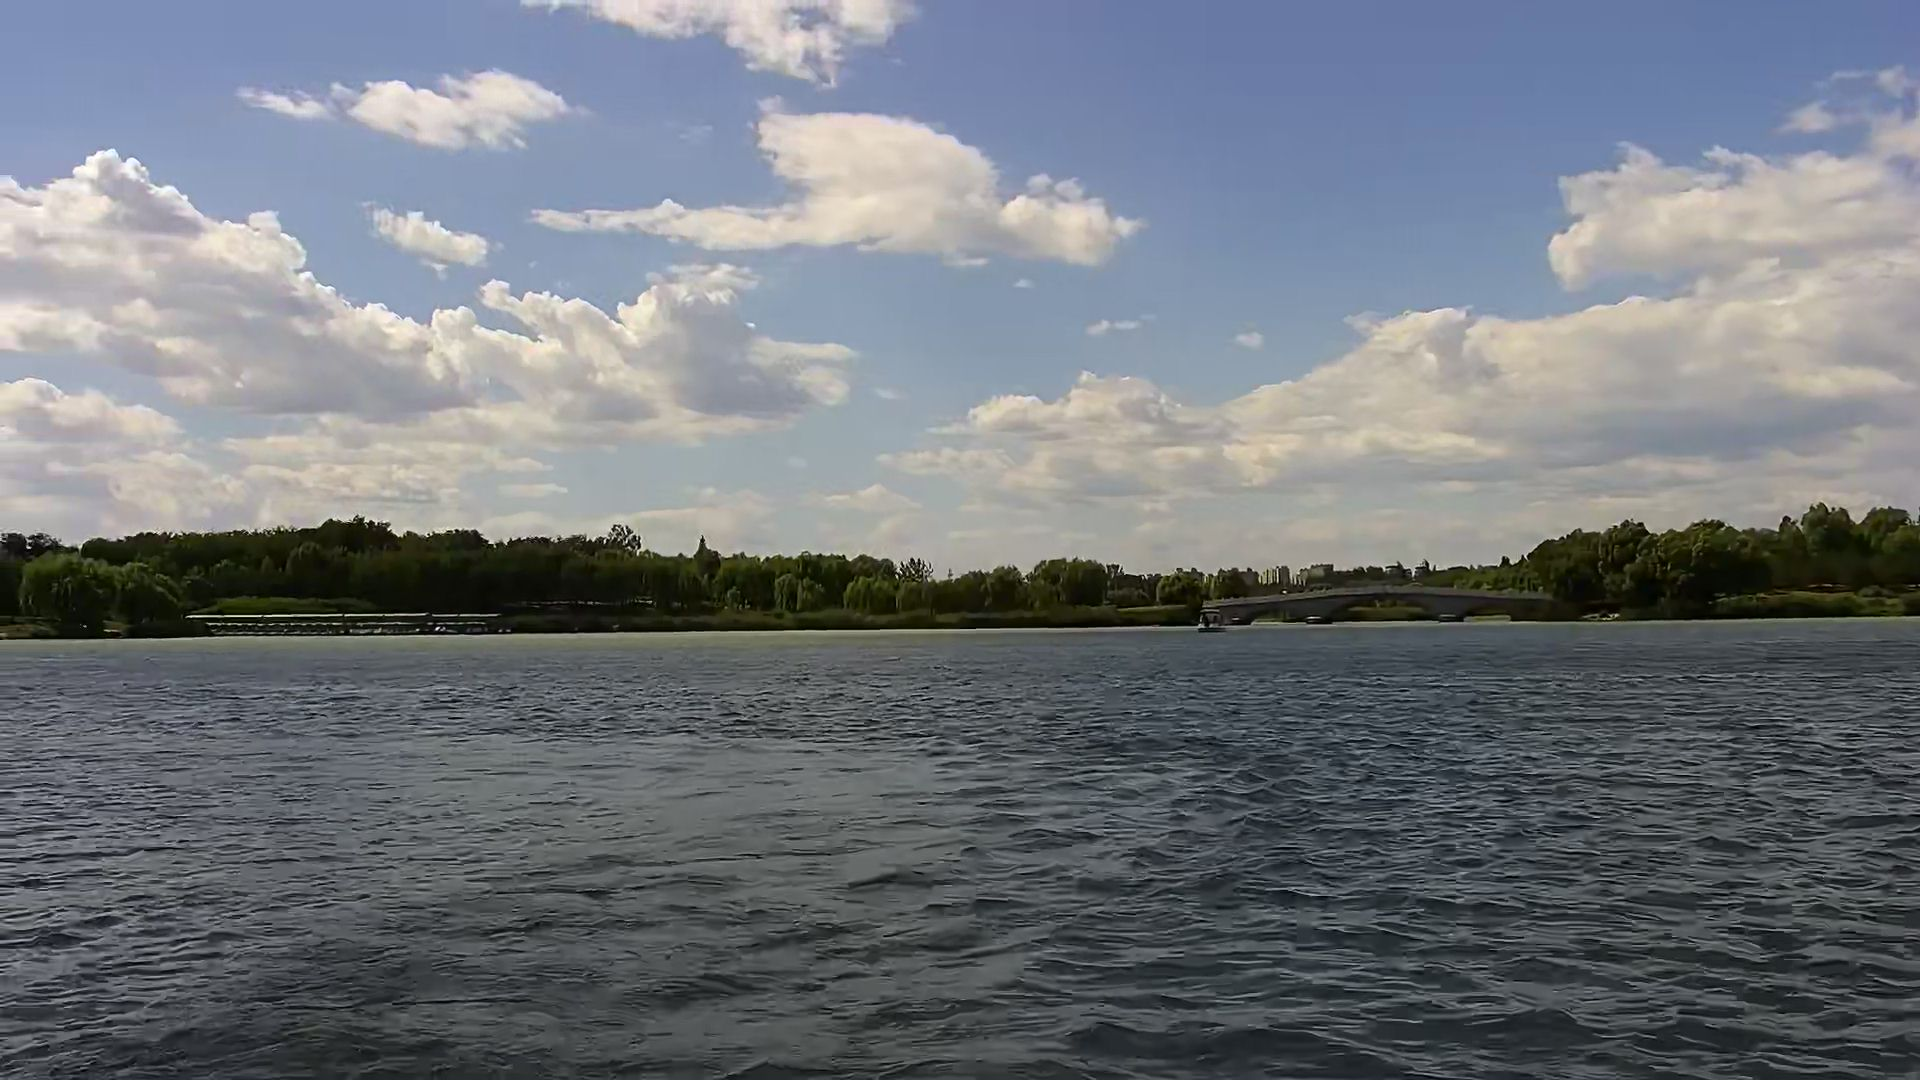boat: (1196, 611, 1228, 634)
bridge: (1207, 588, 1549, 626), (191, 611, 500, 634)
